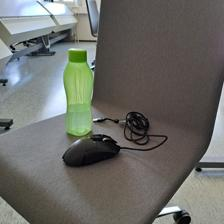bottle: (63, 48, 93, 135)
mouse: (60, 133, 120, 168)
